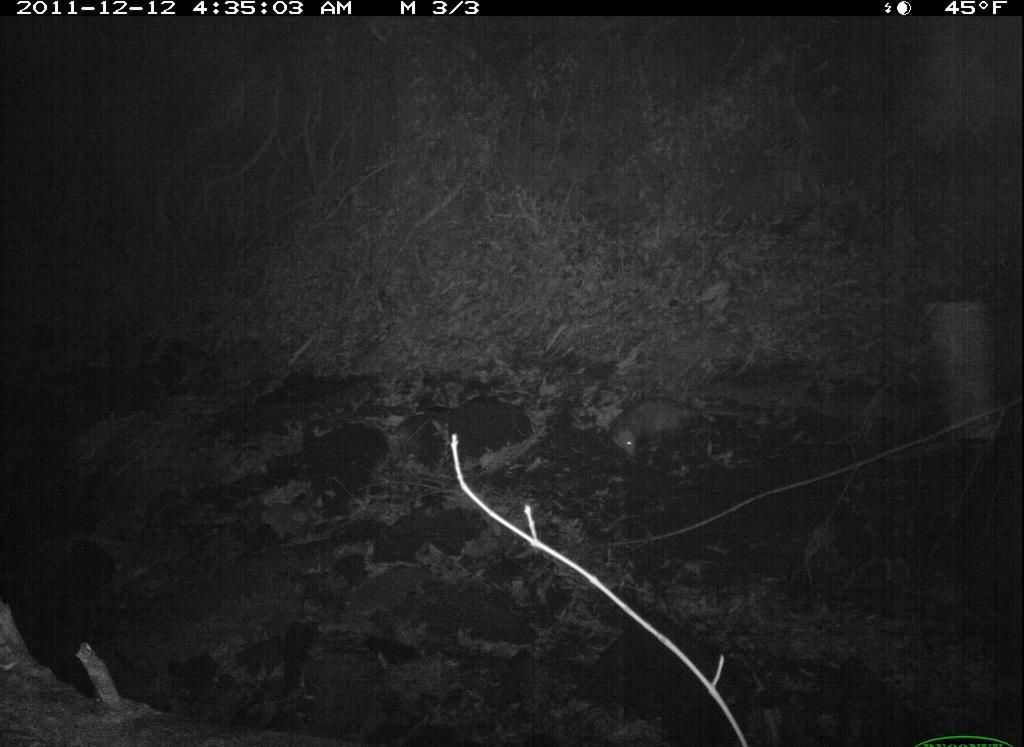opossum: (601, 392, 754, 464)
